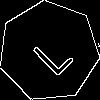L: (24, 26, 76, 79)
